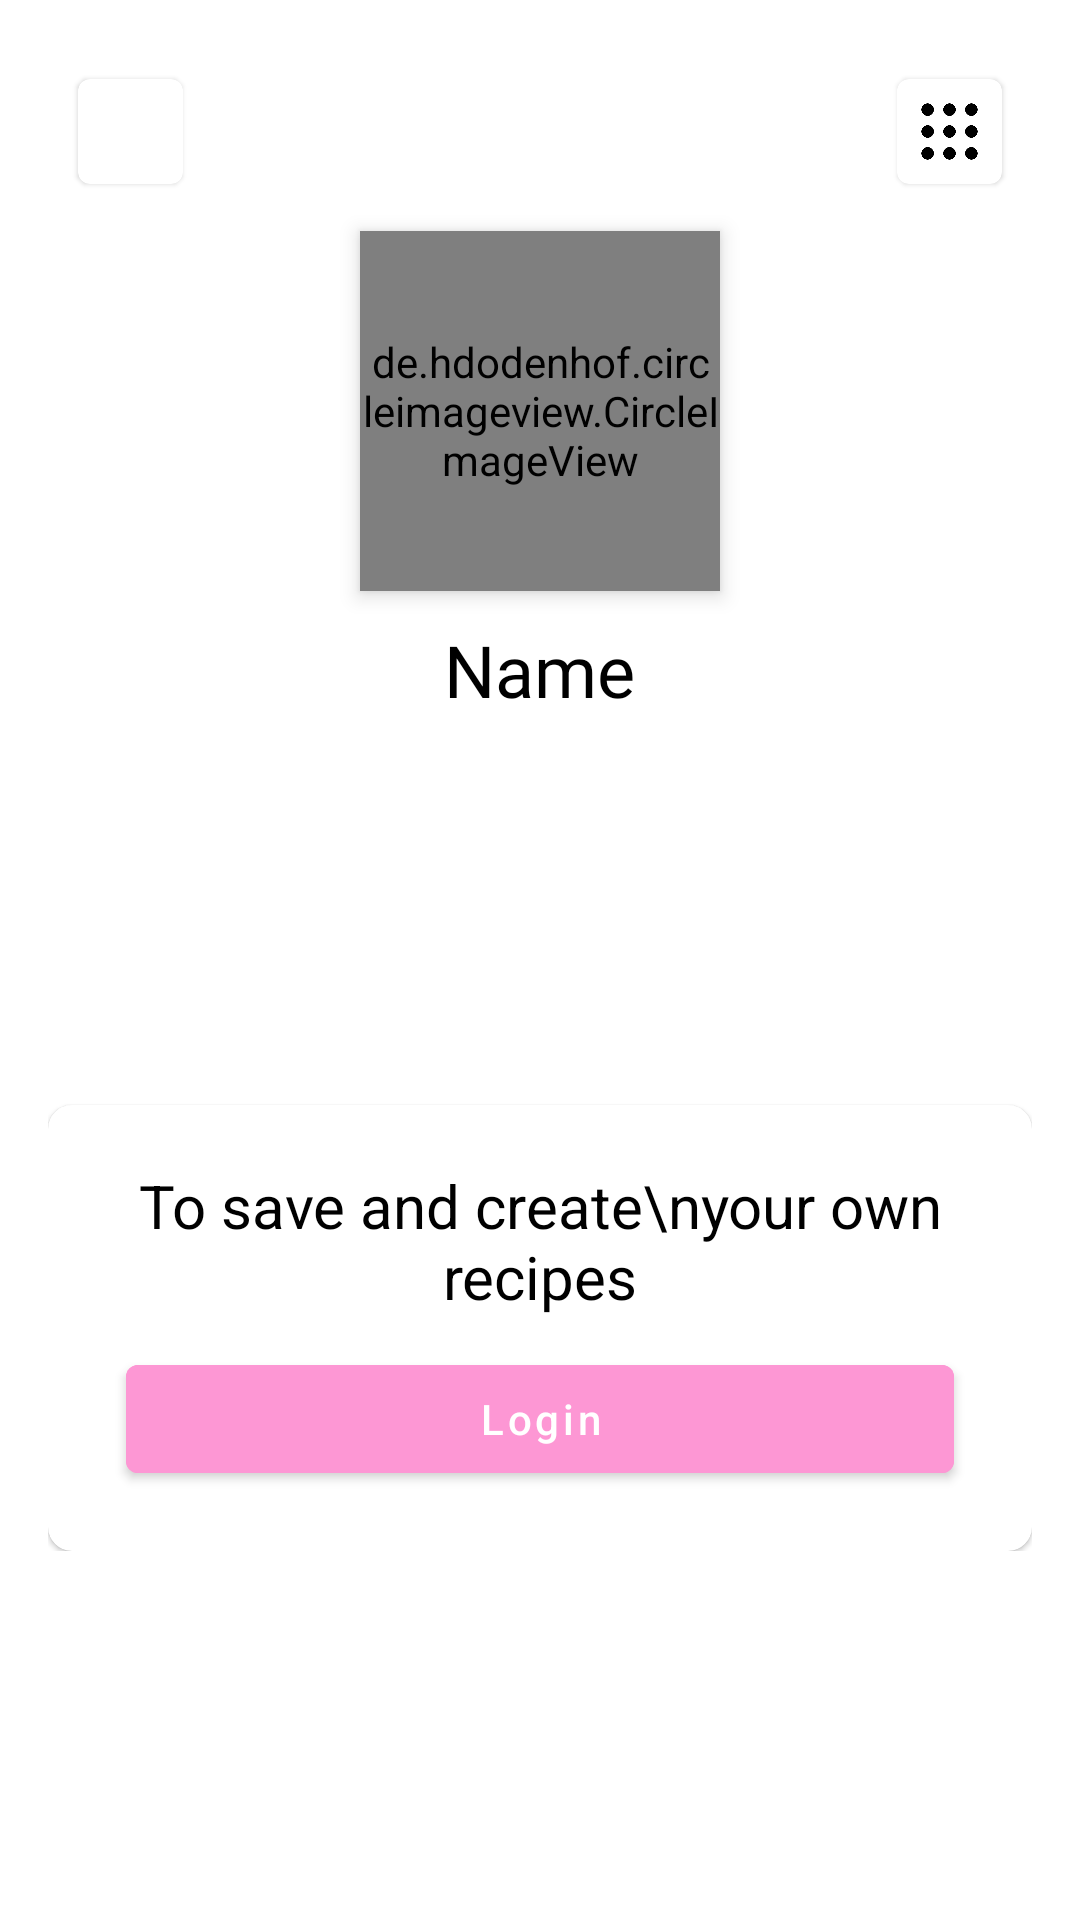

Icons on this 1080×1920 Android screen, each with its box as (x1, y1, x2, y2):
options: (921, 103, 1002, 177)
